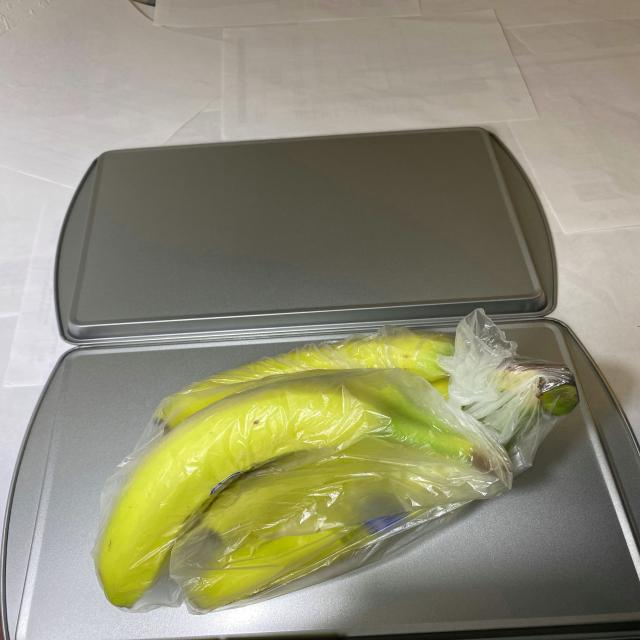banana: (92, 327, 587, 621)
